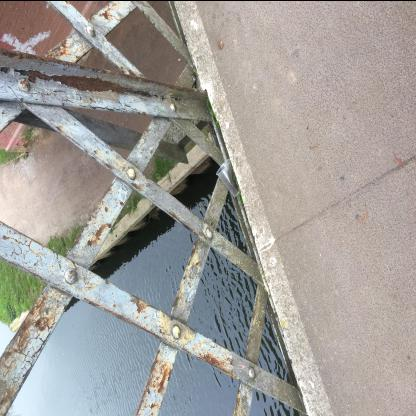plastik: (216, 158, 240, 196)
